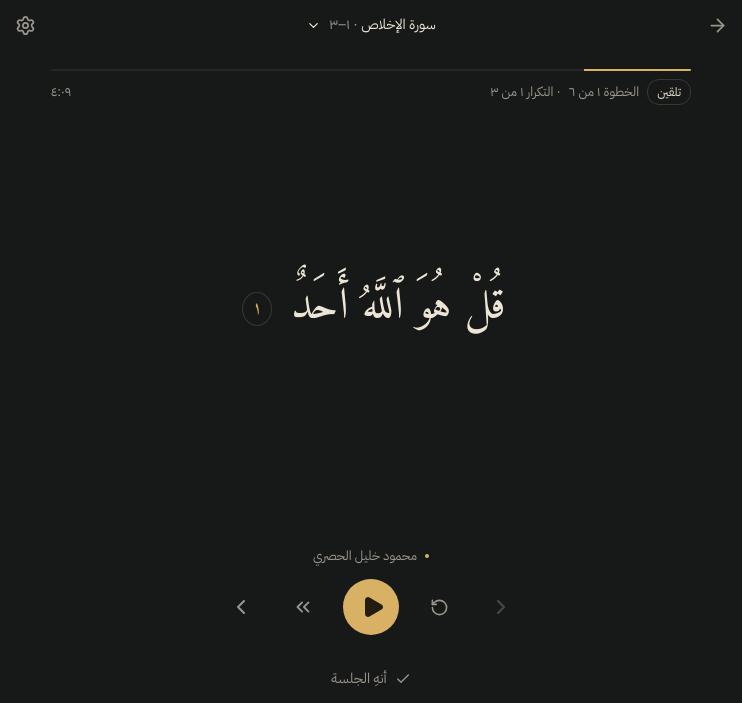
Scenario: a talqeen session › waits for a tap where the page has seen no gesture at all
The width and height of the screenshot is (742, 703).
Click the button named "تشغيل" at (371, 607), box x1=343 y1=579 x2=399 y2=635
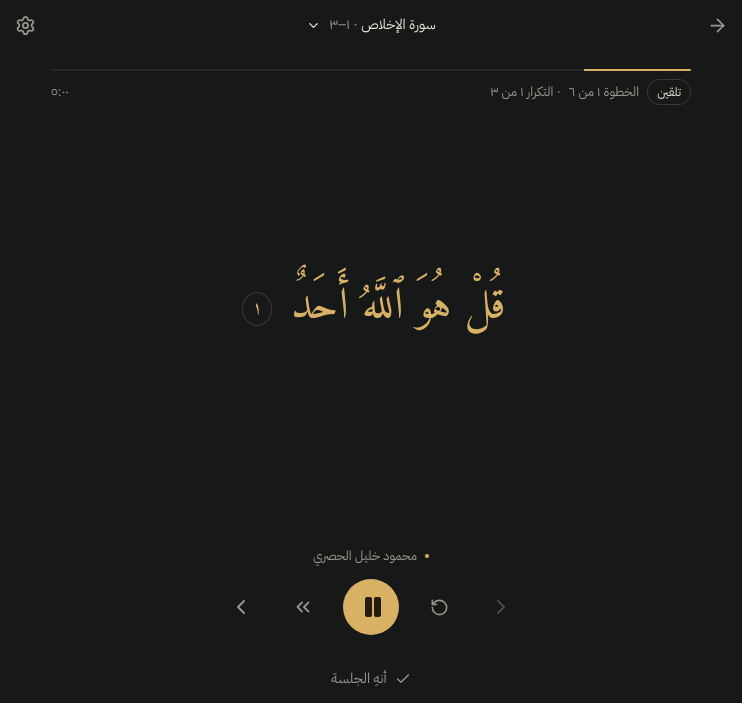
Expected: the button named "إيقاف مؤقّت" is shown, x1=343 y1=579 x2=399 y2=635
